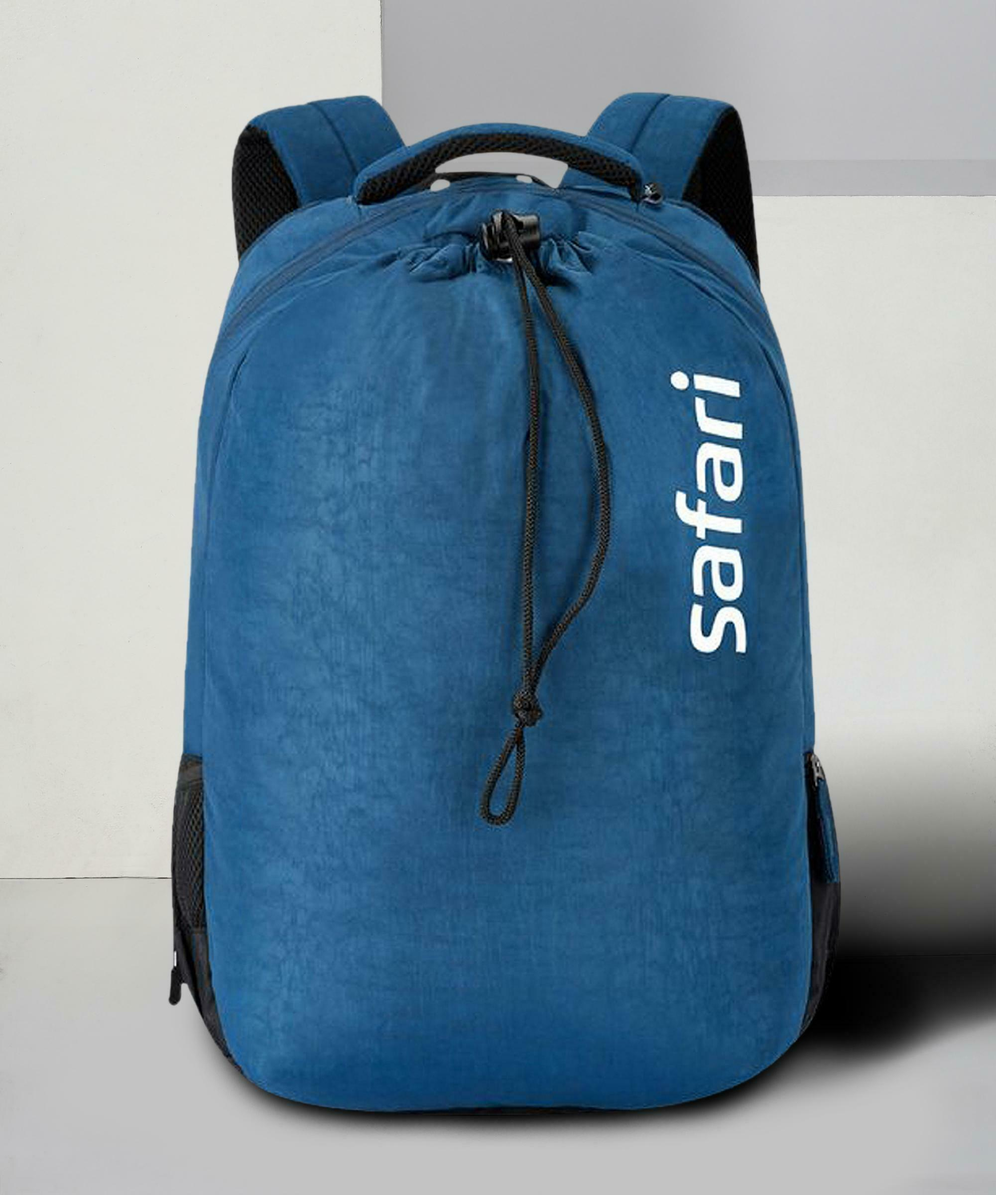backpack: (168, 89, 843, 1114)
